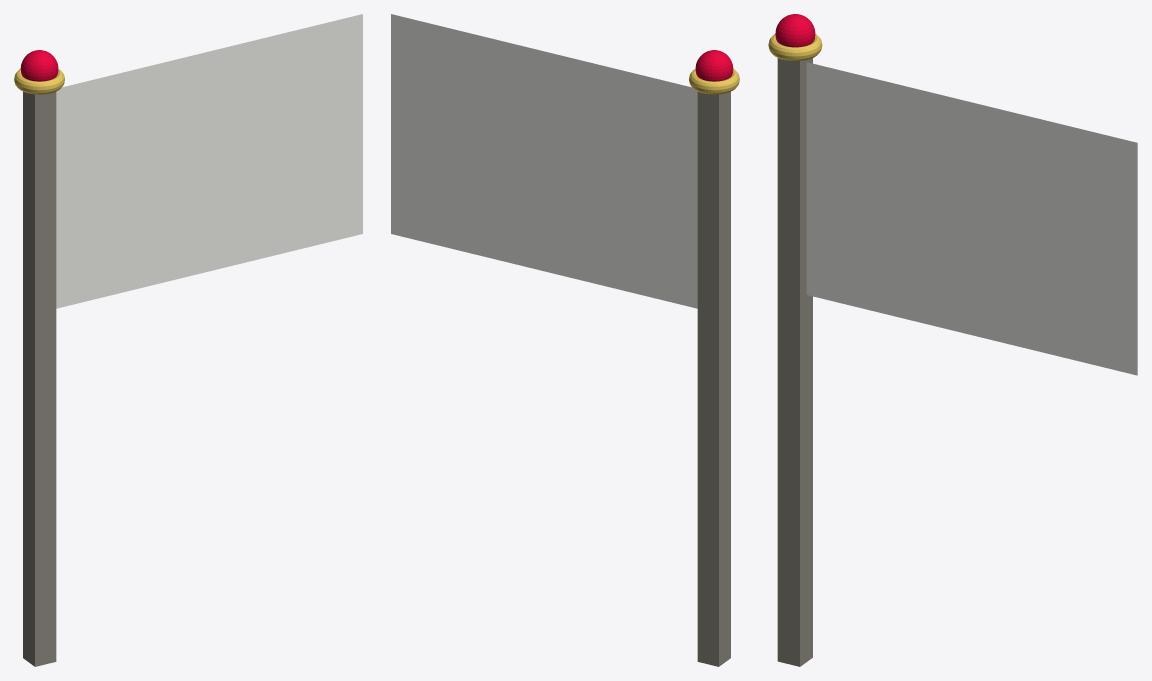
3 views of the same model, side by side, from view 1: azimuth 30°, elevation 25°; view 2: azimuth 150°, elevation 25°; view 3: azimuth 330°, elevation 25° (orthographic). The views are drawn at different scales.
Visible parts, largest first — view 1: Plane, Cube, Sphere, Torus; view 2: Plane, Cube, Sphere, Torus; view 3: Plane, Cube, Sphere, Torus.
Part boxes in pixels (left/top/right/bottom): Plane: left=56, top=14, right=362, bottom=308; Cube: left=23, top=91, right=56, bottom=666; Sphere: left=20, top=50, right=58, bottom=81; Torus: left=14, top=68, right=64, bottom=94; Plane: left=391, top=14, right=697, bottom=308; Cube: left=697, top=91, right=730, bottom=666; Sphere: left=695, top=50, right=733, bottom=81; Torus: left=689, top=68, right=739, bottom=94; Plane: left=806, top=62, right=1137, bottom=375; Cube: left=777, top=58, right=812, bottom=666; Sphere: left=775, top=14, right=815, bottom=47; Torus: left=768, top=34, right=822, bottom=60.
Size of the model in its own units: 195 by 329 by 24.95.
